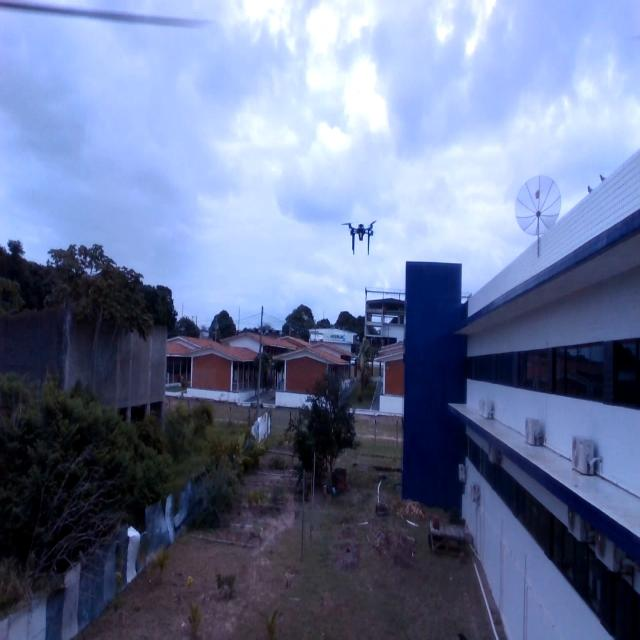-uav-: (336, 209, 382, 261)
